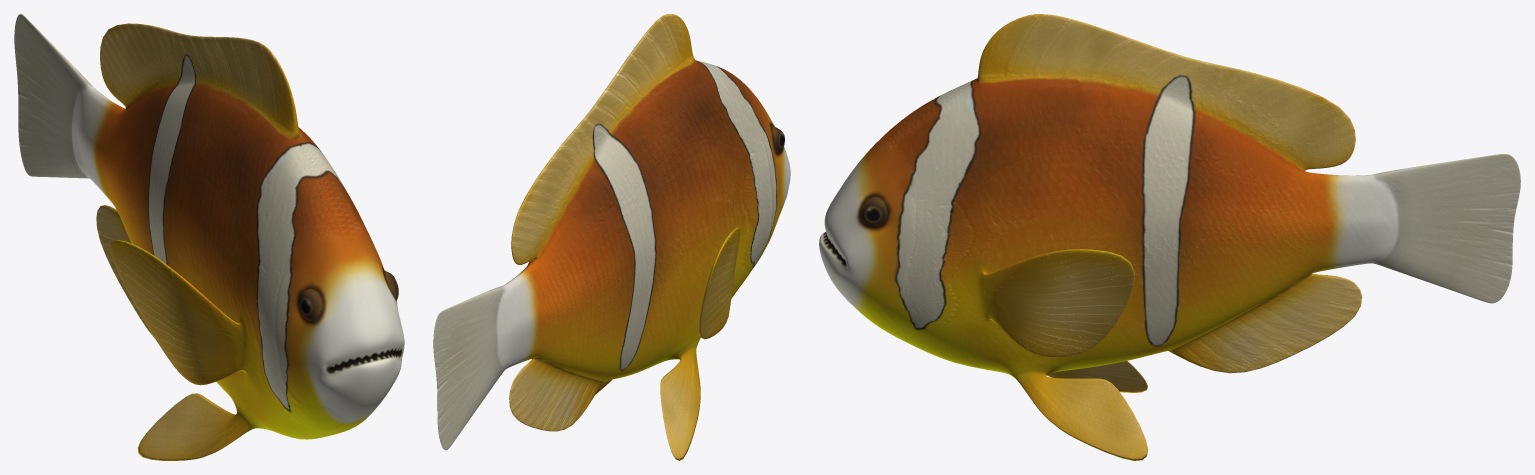
The model's file is clownfish.gltf.
3 views of the same model, side by side, from view 1: azimuth 30°, elevation 25°; view 2: azimuth 150°, elevation 25°; view 3: azimuth 270°, elevation 25° (orthographic). The views are drawn at different scales.
Visible parts, largest first — view 1: 12265_Fish_v1_L2; view 2: 12265_Fish_v1_L2; view 3: 12265_Fish_v1_L2.
Boxes of the visible parts, box(x1,y1,x2,y2) form: 12265_Fish_v1_L2: box(14, 14, 404, 460); 12265_Fish_v1_L2: box(433, 14, 790, 460); 12265_Fish_v1_L2: box(819, 14, 1520, 460).
Bounding box in the file's own units: 9.69 × 18.68 × 28.7.
1 material, 1 textured.
